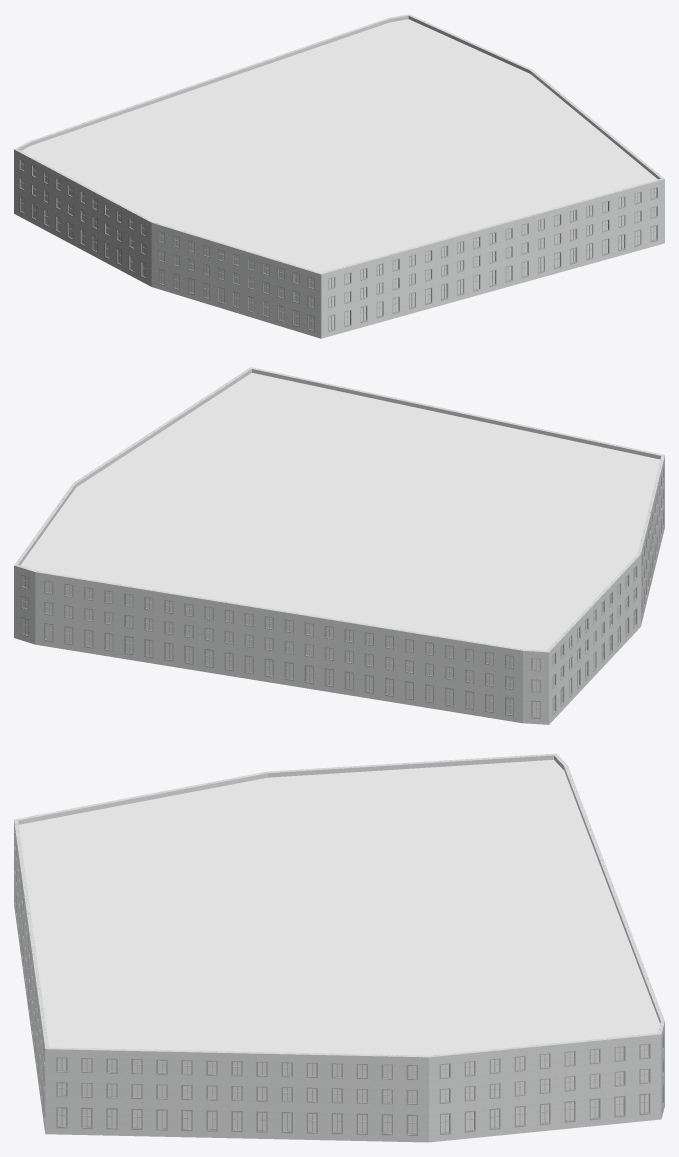
File: clohc1wv503hl4p02i0yl8bbn_0.glb
3 renders of one model, top to bottom at view 1: azimuth 30°, elevation 25°; view 2: azimuth 150°, elevation 25°; view 3: azimuth 270°, elevation 25°, orthographic. The views are drawn at different scales.
Parts seen in each view (by area): view 1: mesh_CityEnginePBRShader, mesh_Brick, mesh_Rim, mesh_Glass; view 2: mesh_CityEnginePBRShader, mesh_Brick, mesh_Rim, mesh_Glass; view 3: mesh_CityEnginePBRShader, mesh_Brick, mesh_Rim, mesh_Glass.
Part boxes in pixels (bbox=[...]): mesh_CityEnginePBRShader: bbox=[21, 19, 657, 272]; mesh_Brick: bbox=[14, 14, 664, 338]; mesh_Rim: bbox=[19, 158, 657, 331]; mesh_Glass: bbox=[21, 160, 656, 329]; mesh_CityEnginePBRShader: bbox=[20, 373, 660, 650]; mesh_Brick: bbox=[14, 367, 664, 724]; mesh_Rim: bbox=[21, 467, 663, 718]; mesh_Glass: bbox=[22, 568, 635, 716]; mesh_CityEnginePBRShader: bbox=[19, 759, 659, 1055]; mesh_Brick: bbox=[14, 753, 664, 1142]; mesh_Rim: bbox=[14, 834, 663, 1135]; mesh_Glass: bbox=[57, 1044, 648, 1133].
Bounding box in the file's own units: 88.59 × 11.57 × 80.2.
4 materials, 1 textured.
